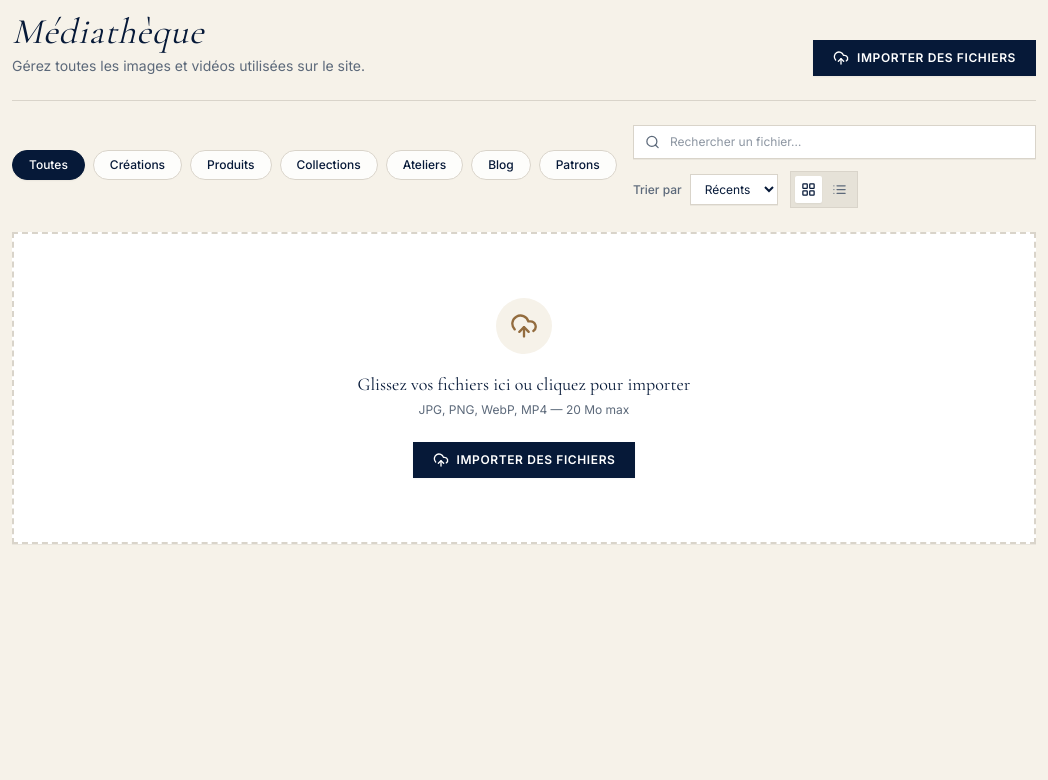
AdminMediathequePage › shows a reset-filters state, not the upload prompt, when a search matches nothing
In the search field labelled "Rechercher un fichier": (834, 142) top-left (633, 125), bottom-right (1036, 159), type "introuvable"
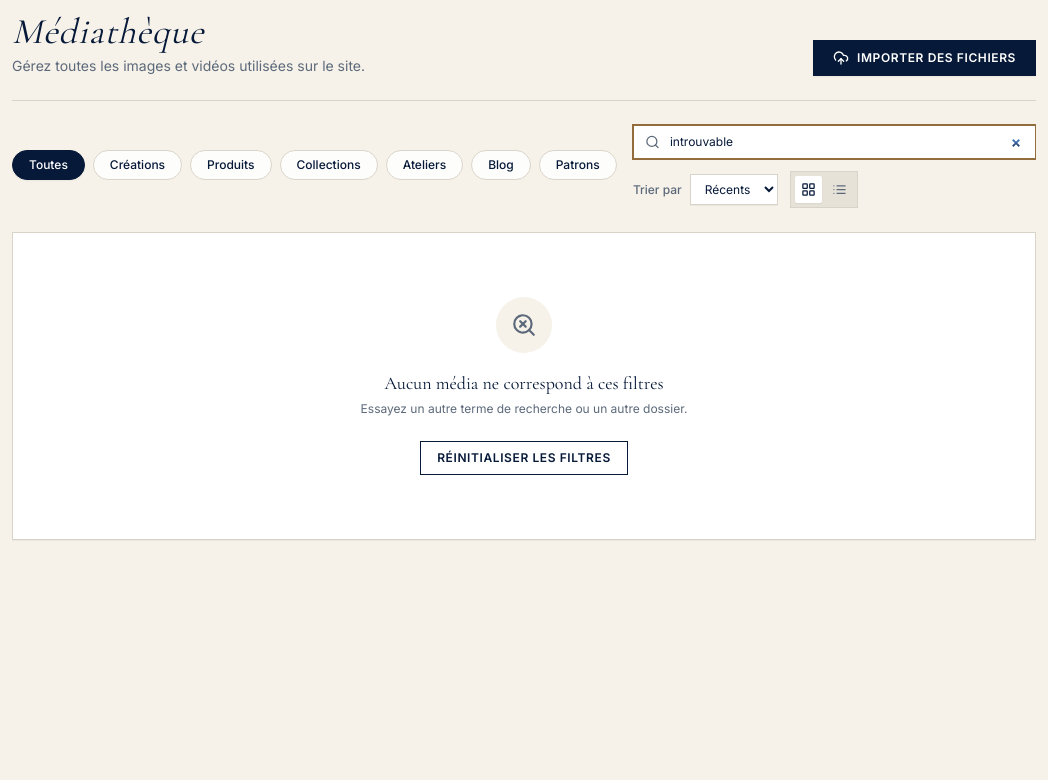
Now the text "Aucun média ne correspond à ces filtres" is shown, box top-left (384, 369), bottom-right (664, 397)
Now the text "Glissez vos fichiers ici ou cliquez pour importer" is gone
